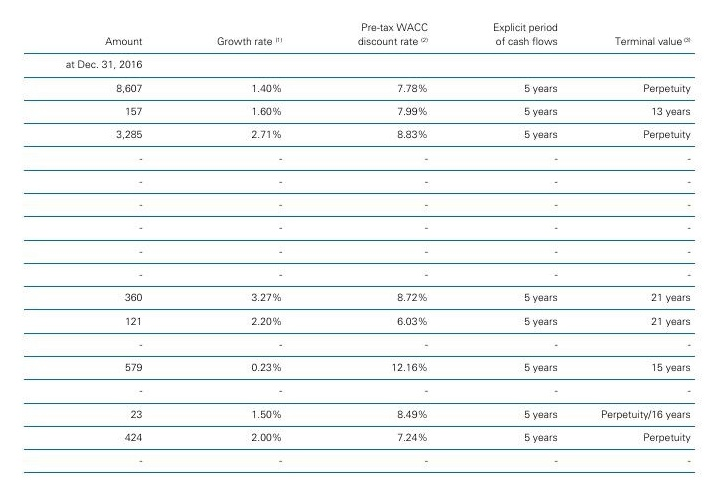table: (0, 0, 714, 489)
